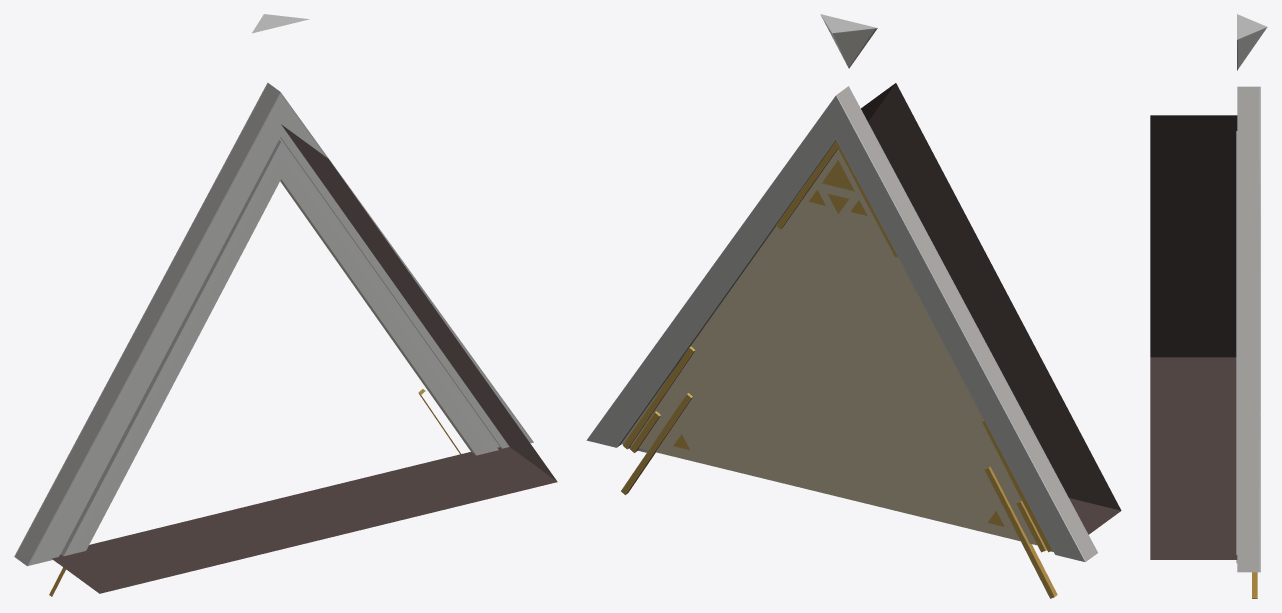
File: furn_ab2024_door.gltf
3 views of the same model, side by side, from view 1: azimuth 30°, elevation 25°; view 2: azimuth 150°, elevation 25°; view 3: azimuth 270°, elevation 25° (orthographic). The views are drawn at different scales.
Parts seen in each view (by area): view 1: ab2024_door; view 2: ab2024_door; view 3: ab2024_door.
Part boxes in pixels (x1=…): ab2024_door: x1=14, y1=14, x2=557, y2=596; ab2024_door: x1=586, y1=14, x2=1121, y2=598; ab2024_door: x1=1150, y1=14, x2=1267, y2=598.
Size of the model in its own units: 2.53 by 2.51 by 0.5592.
3 materials, 1 textured.
